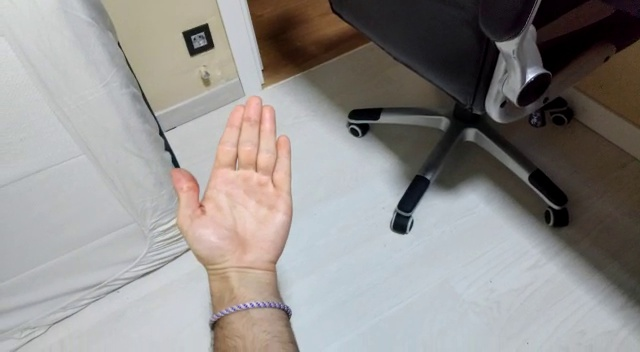Palm: (169, 92, 297, 285)
